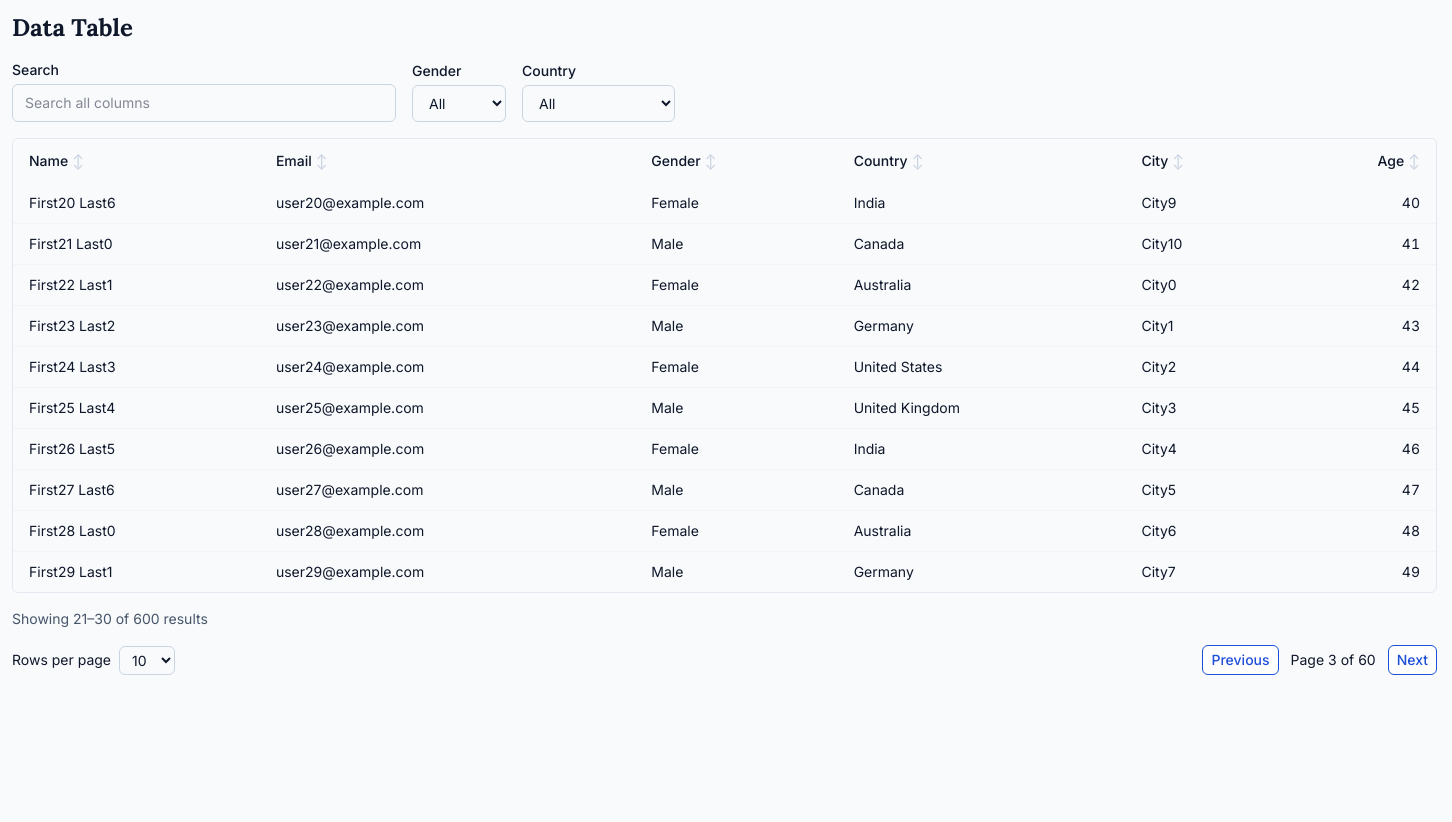
Test: DataTablePage › goes back to page 1 when a filter changes
Check: the table is shown, box [13,139,1436,592]
Check: the text "Page 3 of 60" is shown, box [1290,650,1376,670]
Select "Female" in the dropdown named "Filter by Gender" at (459, 104), box [412,85,506,122]
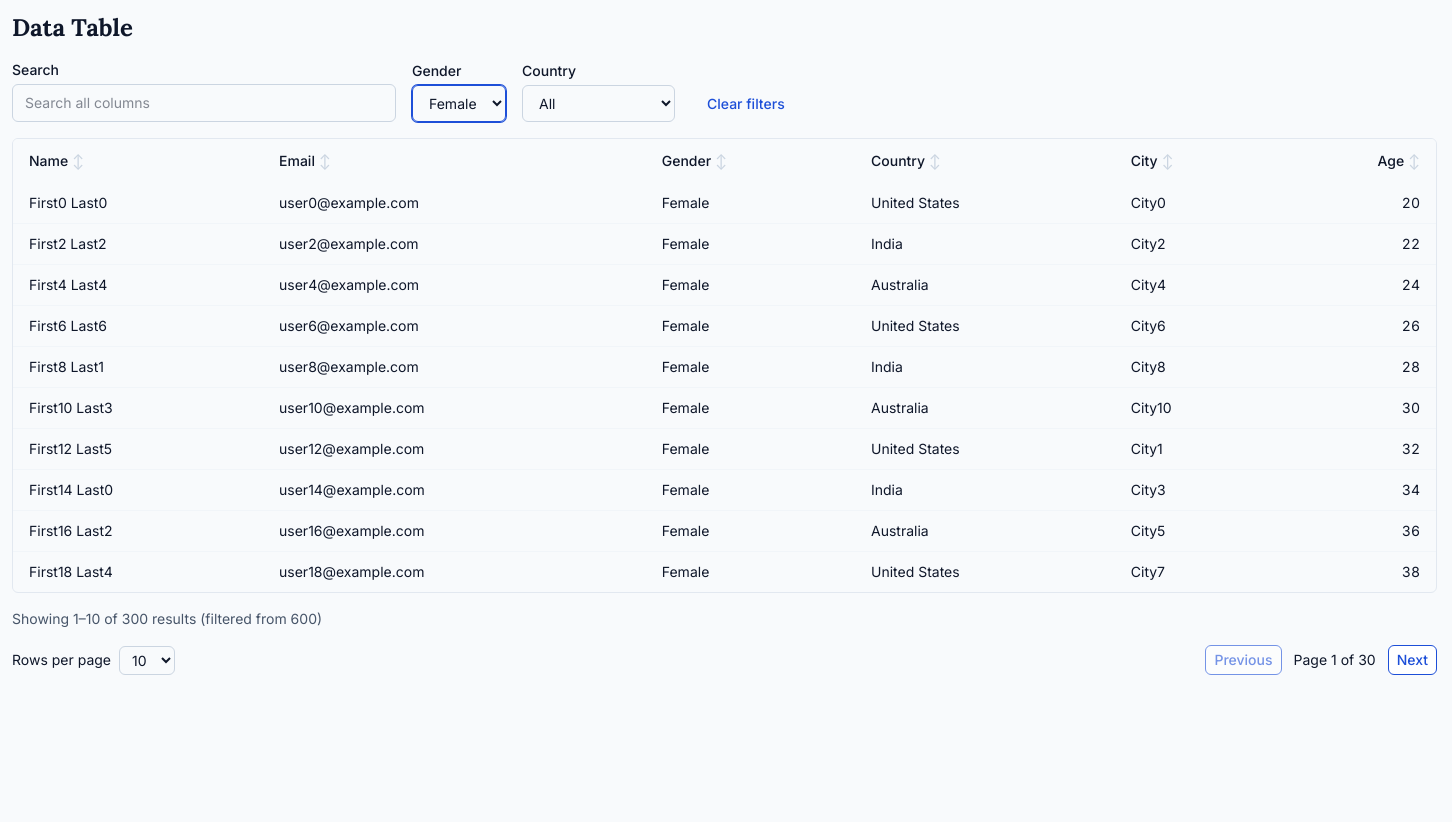
Check: the text "Page 1 of 30" is shown, box [1294,650,1376,670]
